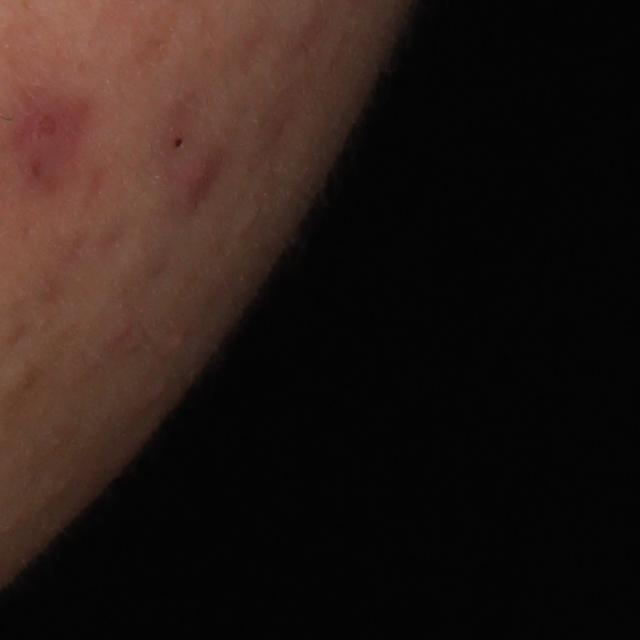comedo: (3, 362, 35, 400), (169, 129, 195, 157)
papule: (176, 152, 225, 202)
